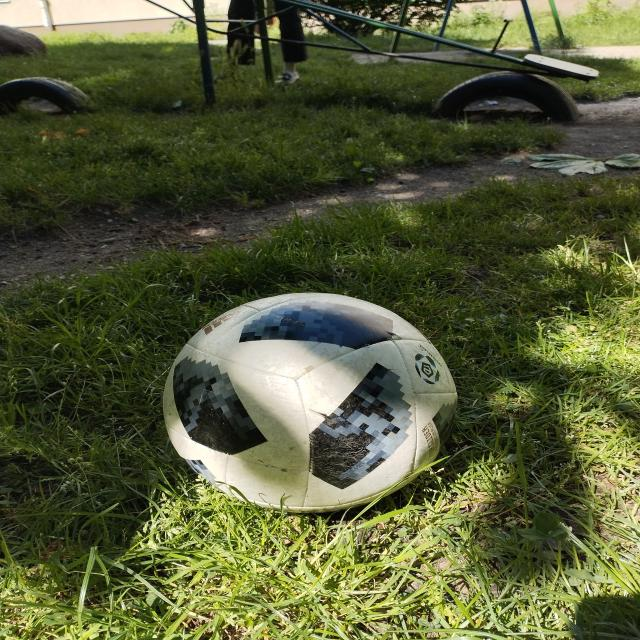nozna: (162, 292, 458, 513)
